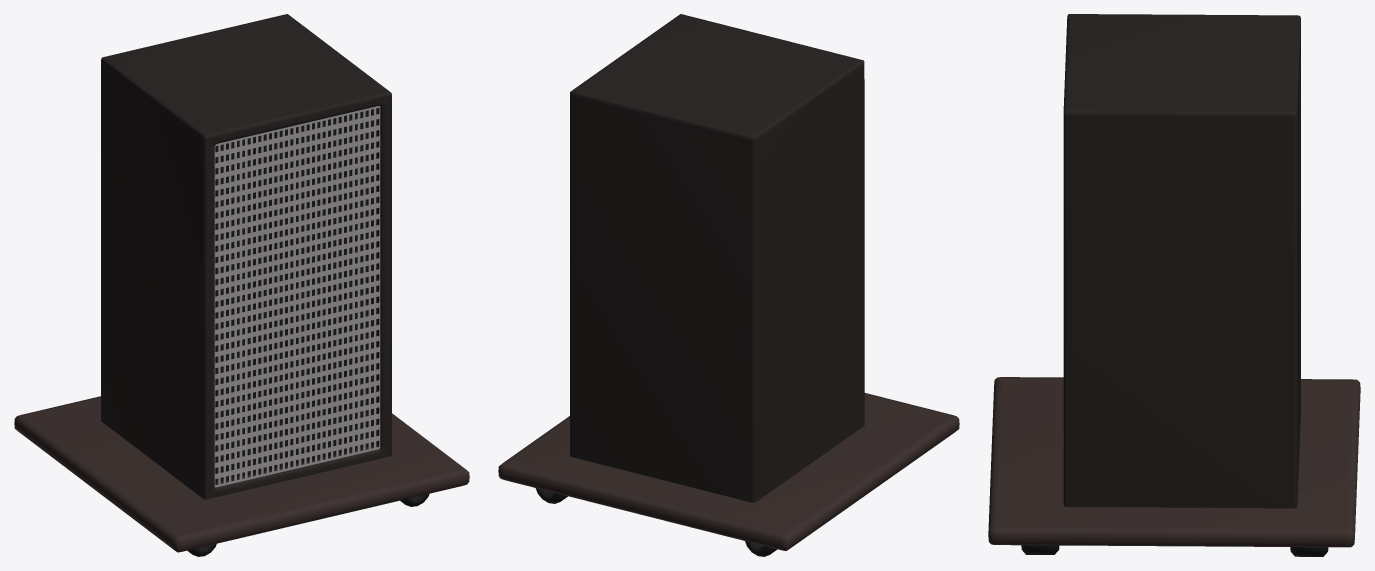
Rendered from Lautsprecher.fbx.
3 views of the same model, side by side, from view 1: azimuth 30°, elevation 25°; view 2: azimuth 150°, elevation 25°; view 3: azimuth 270°, elevation 25° (orthographic). The views are drawn at different scales.
Visible parts, largest first — view 1: Lautsprecher; view 2: Lautsprecher; view 3: Lautsprecher.
Boxes of the visible parts, x1,y1,x2,y2 form: Lautsprecher: (14,14,469,556); Lautsprecher: (498,14,959,556); Lautsprecher: (988,14,1360,556).
Bounding box in the file's own units: 86.47 × 112 × 86.47.
